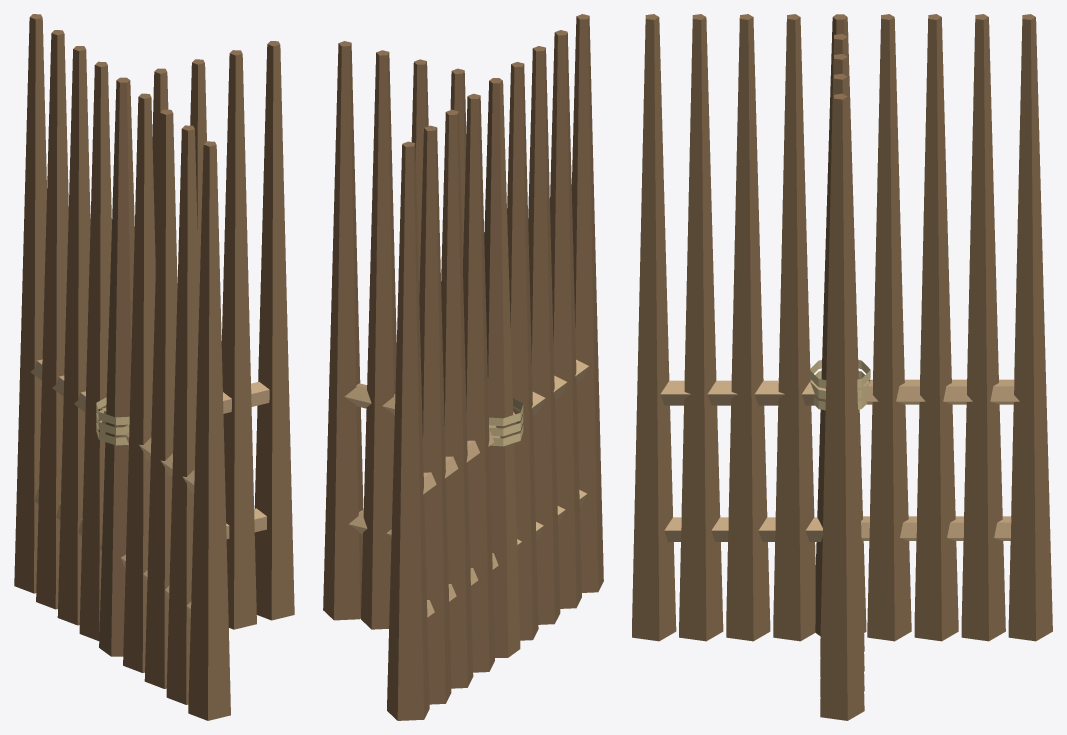
File: palisade_07.glb
3 views of the same model, side by side, from view 1: azimuth 30°, elevation 25°; view 2: azimuth 150°, elevation 25°; view 3: azimuth 270°, elevation 25° (orthographic). The views are drawn at different scales.
Parts seen in each view (by area): view 1: palisade_07; view 2: palisade_07; view 3: palisade_07.
Boxes of the visible parts, box(x1,y1,x2,y2) form: palisade_07: box(14, 14, 294, 720); palisade_07: box(323, 14, 603, 720); palisade_07: box(632, 14, 1052, 720).
Size of the model in its own units: 0.6428 by 1.8 by 1.12.
